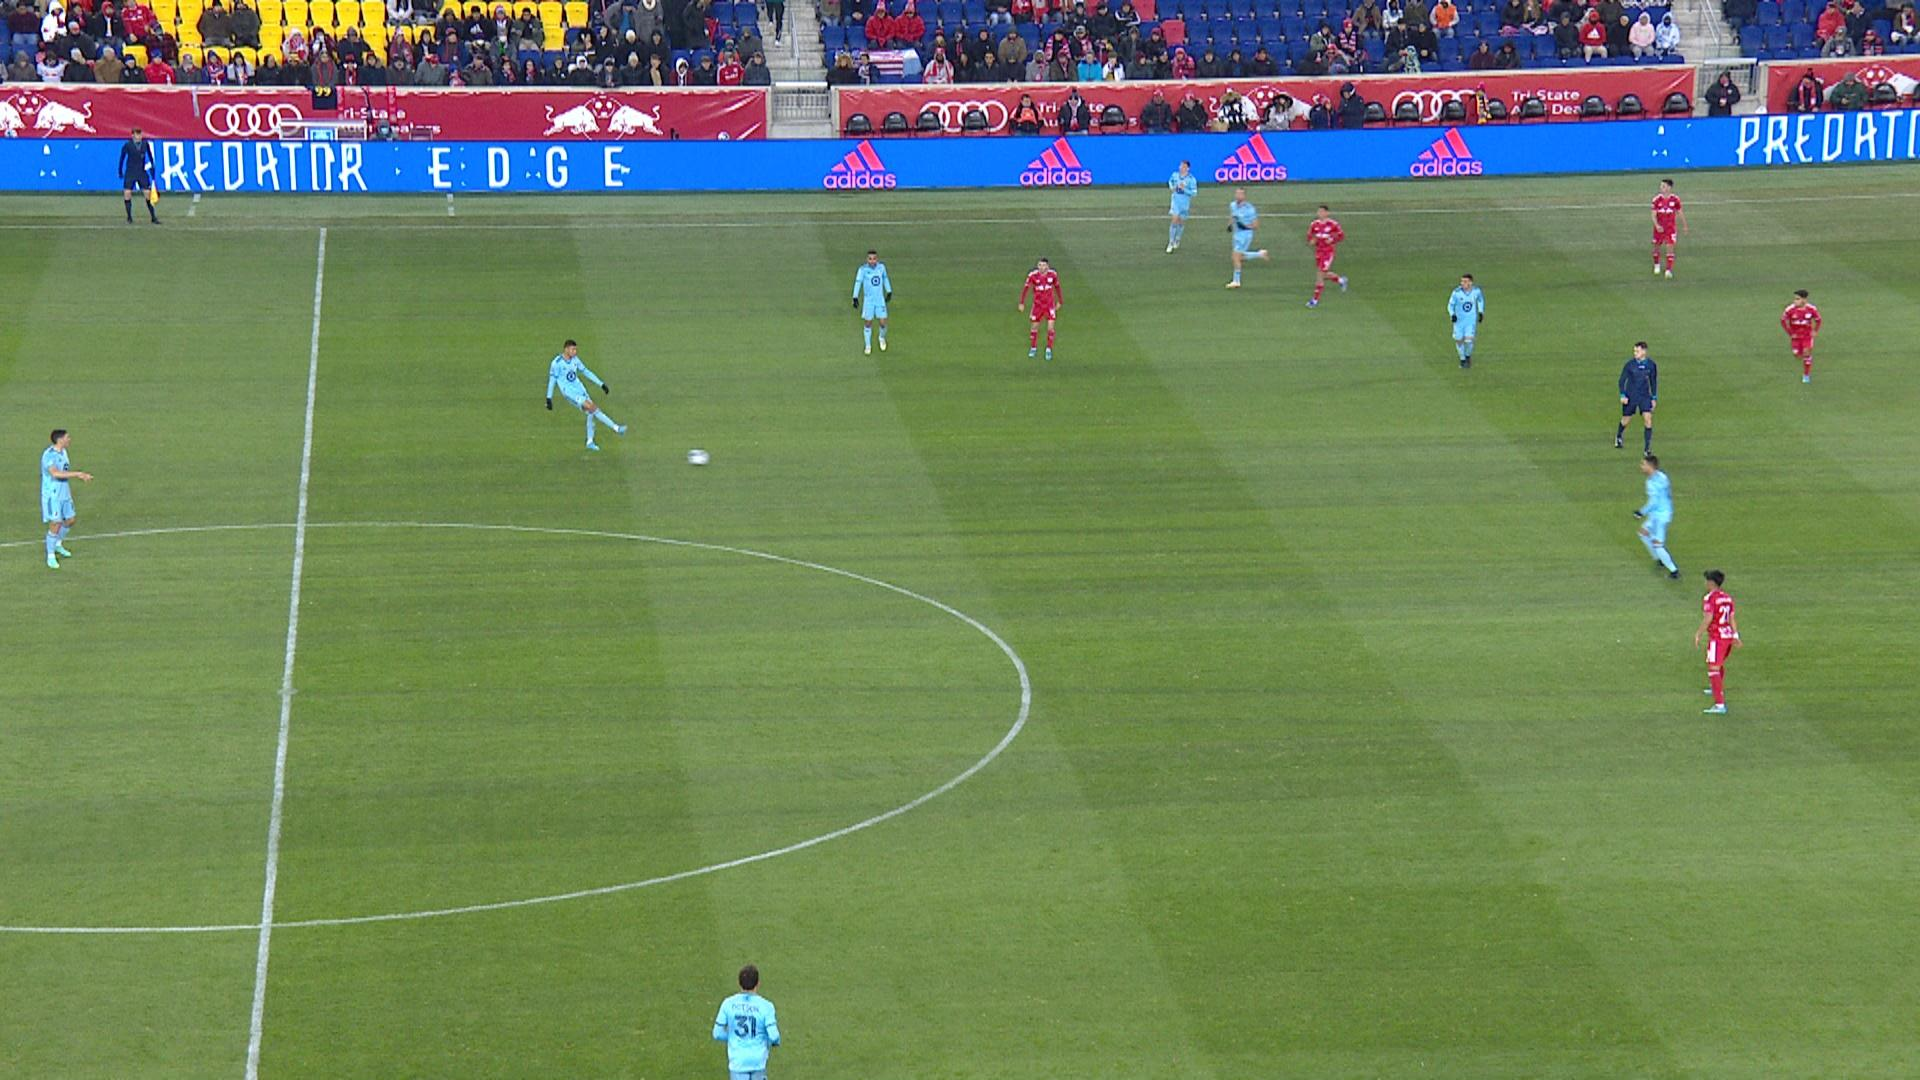football: (688, 446, 709, 468)
